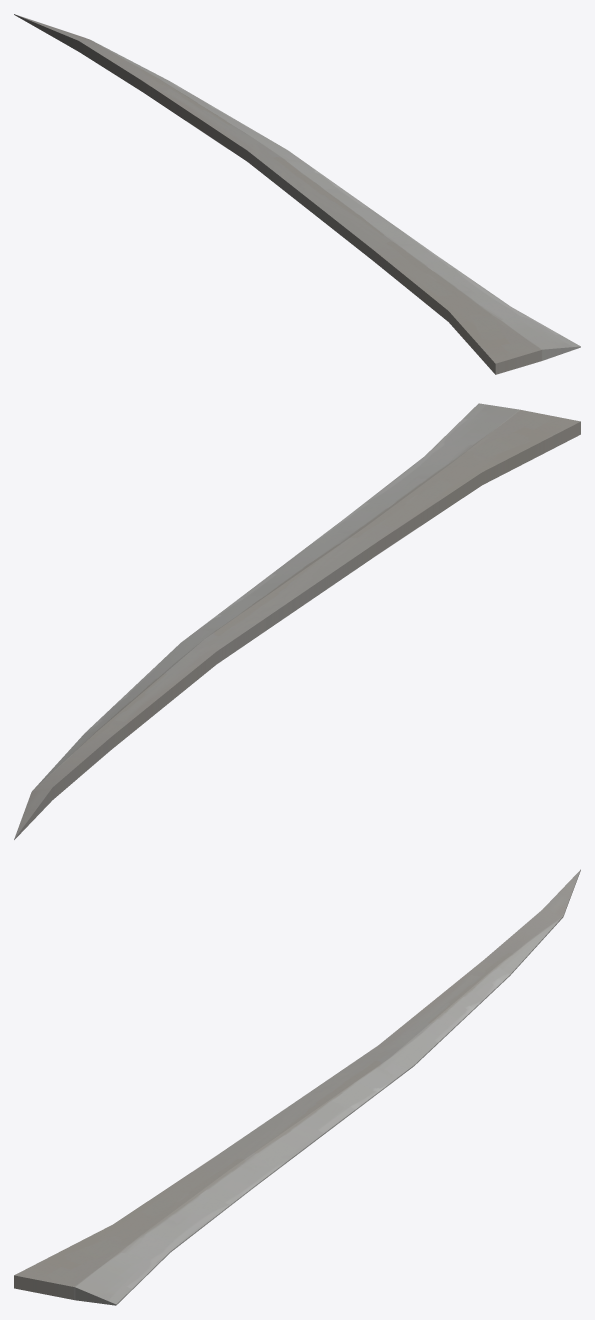
File: blade1.FBX
3 views of the same model, one above another, from view 1: azimuth 30°, elevation 25°; view 2: azimuth 150°, elevation 25°; view 3: azimuth 330°, elevation 25° (orthographic). The views are drawn at different scales.
Visible parts, largest first — view 1: blade01; view 2: blade01; view 3: blade01.
Boxes of the visible parts, left/top/right/bottom form: blade01: left=14, top=14, right=580, bottom=374; blade01: left=14, top=403, right=580, bottom=839; blade01: left=14, top=869, right=580, bottom=1305.
Size of the model in its own units: 0.2523 by 2.44 by 0.0312.
